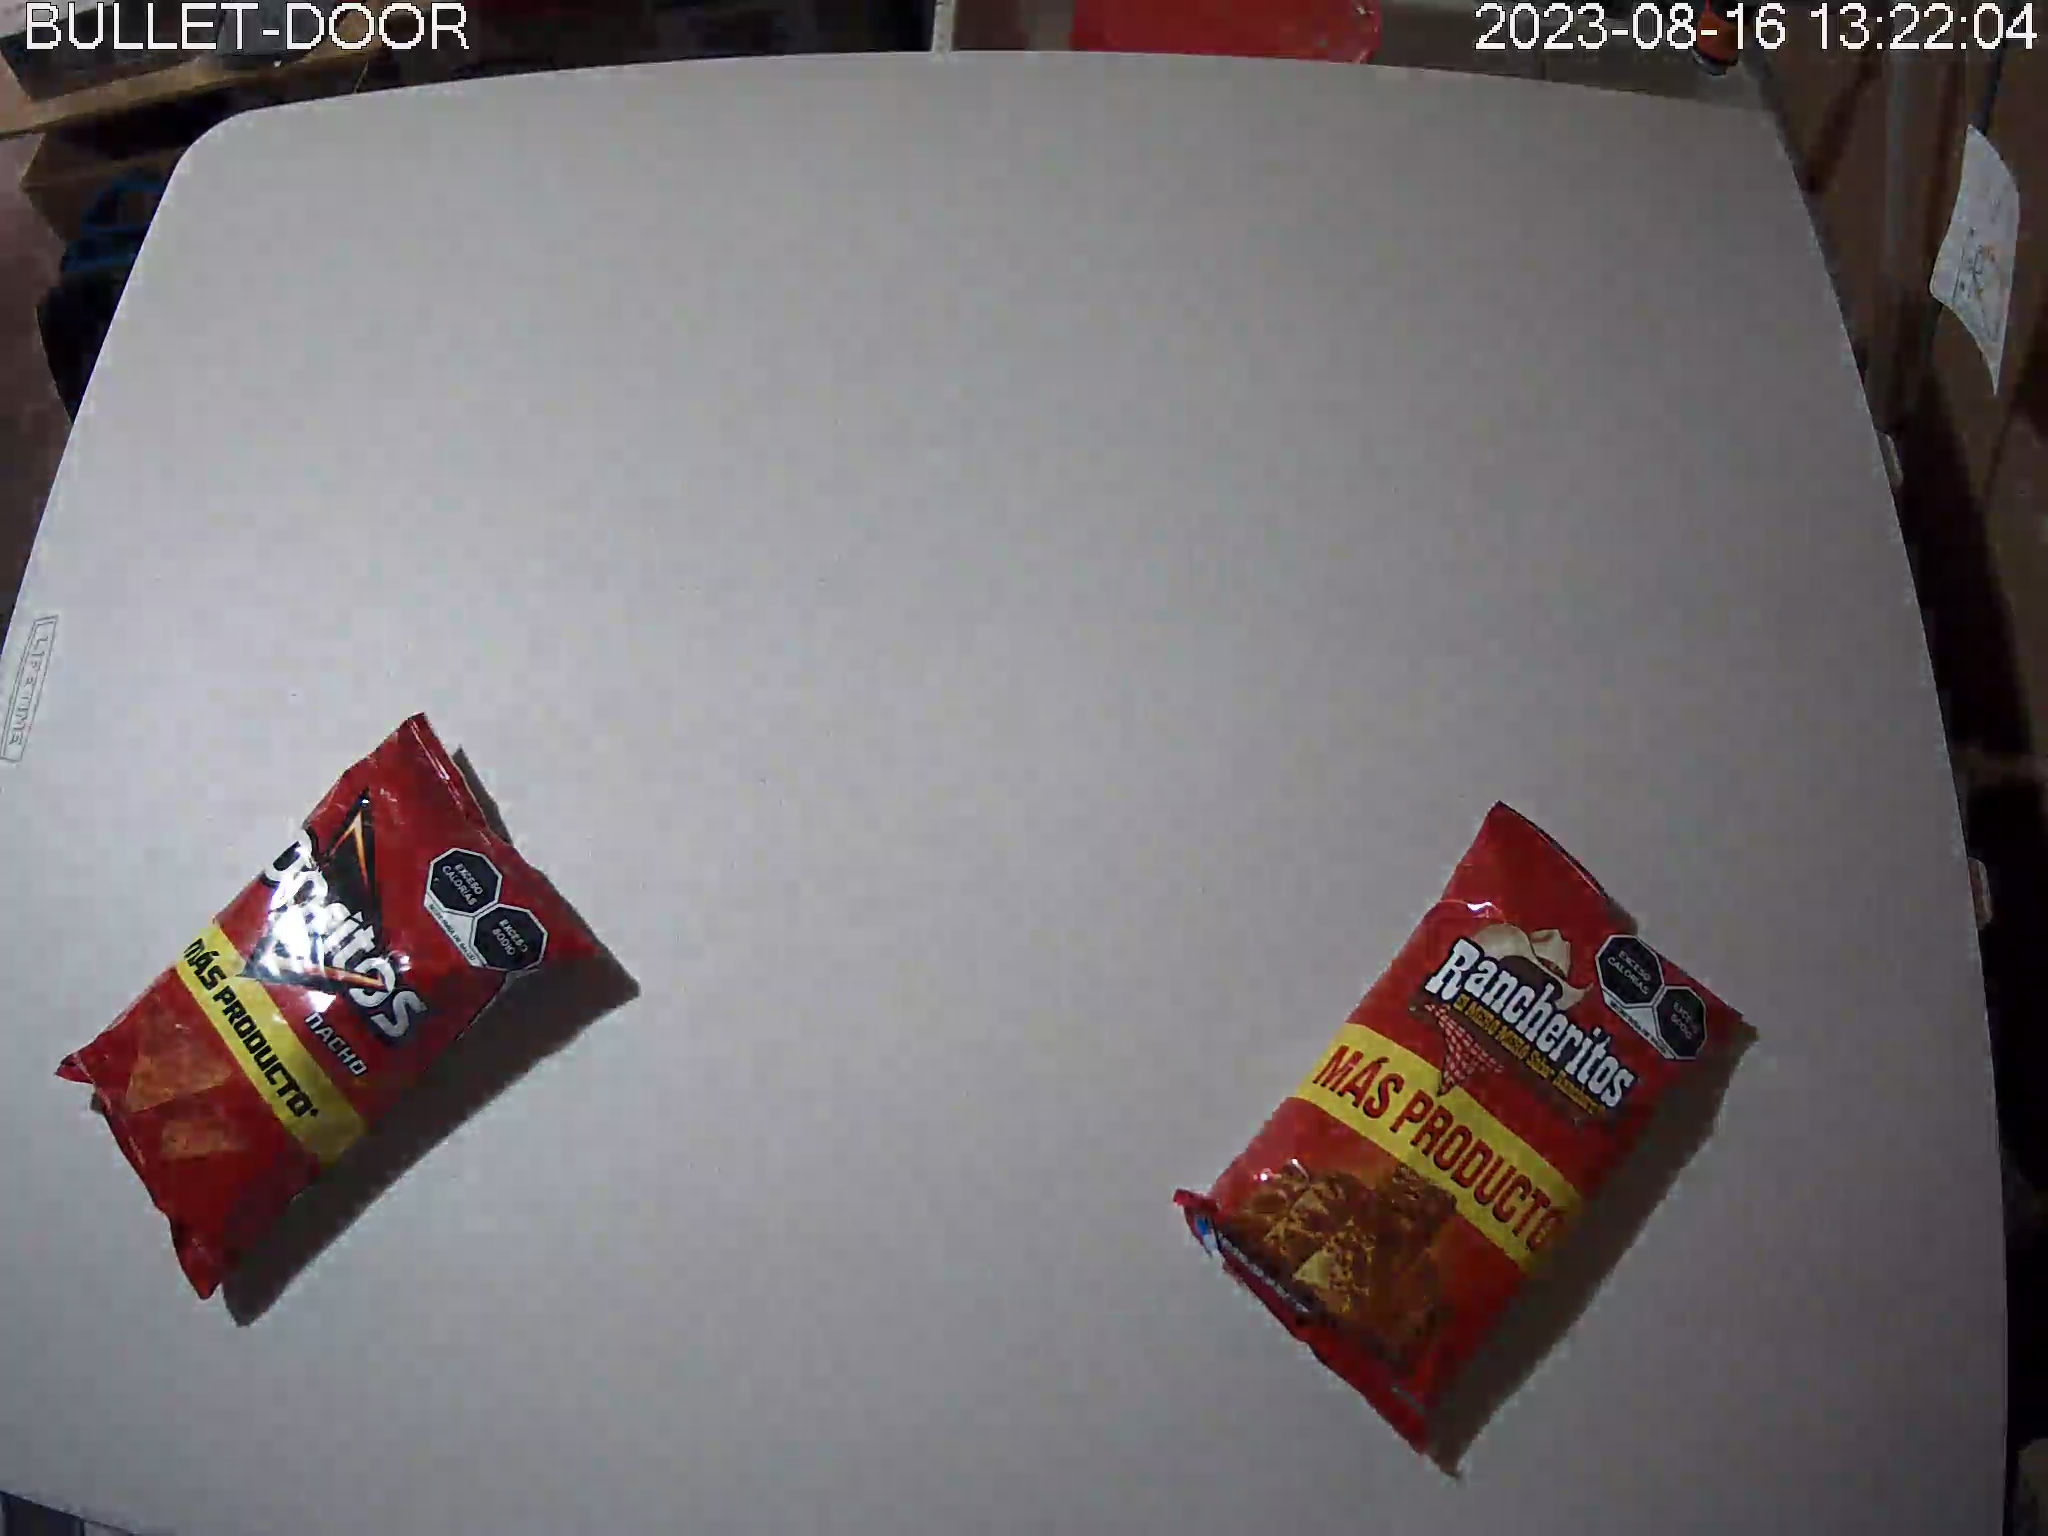DoritosN_61_F: (55, 712, 613, 1300)
Rancheritos_58_F: (1172, 799, 1746, 1457)
